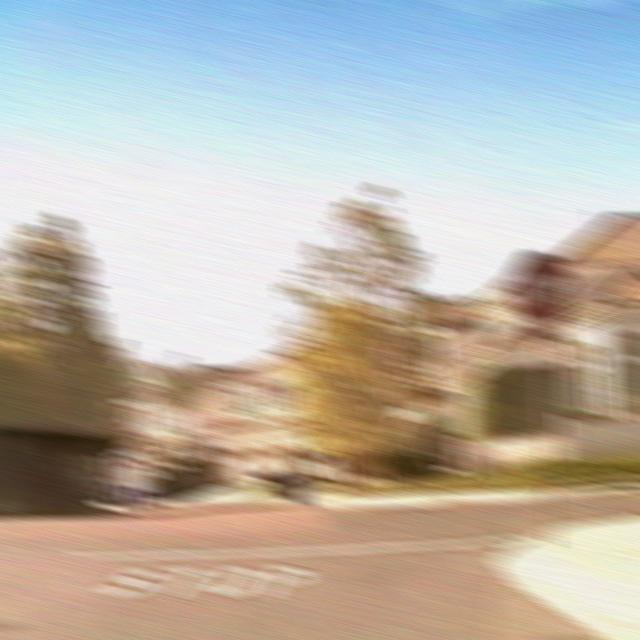stop_sign: (508, 250, 574, 326)
